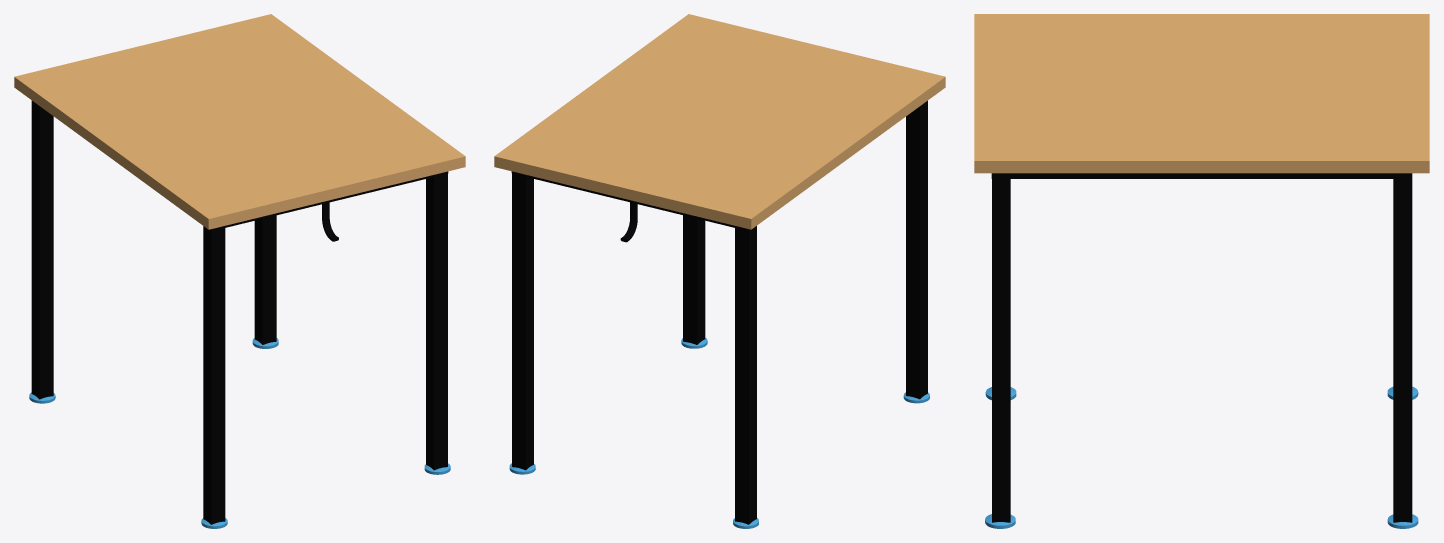
File: ławka.fbx
3 views of the same model, side by side, from view 1: azimuth 30°, elevation 25°; view 2: azimuth 150°, elevation 25°; view 3: azimuth 270°, elevation 25° (orthographic). The views are drawn at different scales.
Parts seen in each view (by area): view 1: Kostka.004; view 2: Kostka.004; view 3: Kostka.004.
Part boxes in pixels (left/top/right/bottom): Kostka.004: left=14, top=14, right=465, bottom=528; Kostka.004: left=494, top=14, right=945, bottom=528; Kostka.004: left=974, top=14, right=1429, bottom=528.
Bounding box in the file's own units: 153 × 180 × 200.
